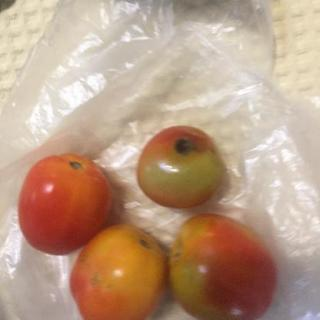Tomat: (164, 206, 292, 319), (12, 143, 117, 258), (61, 217, 167, 320), (133, 119, 237, 211)
